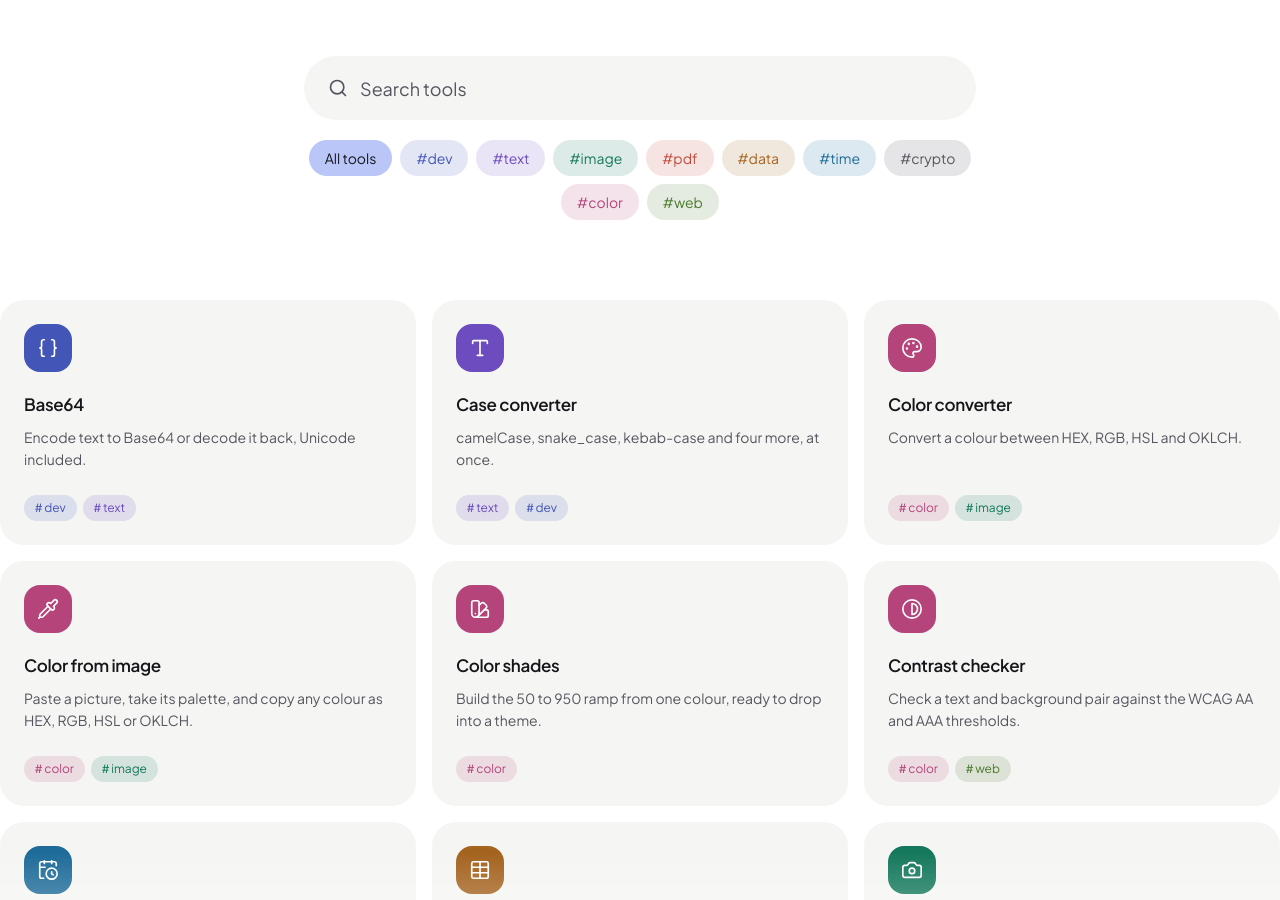
Test: <ToolExplorer /> › should leave the grid alone until the search is committed
Type "qr" into the dropdown labelled "Search tools" at (640, 88), box [304,56,976,120]
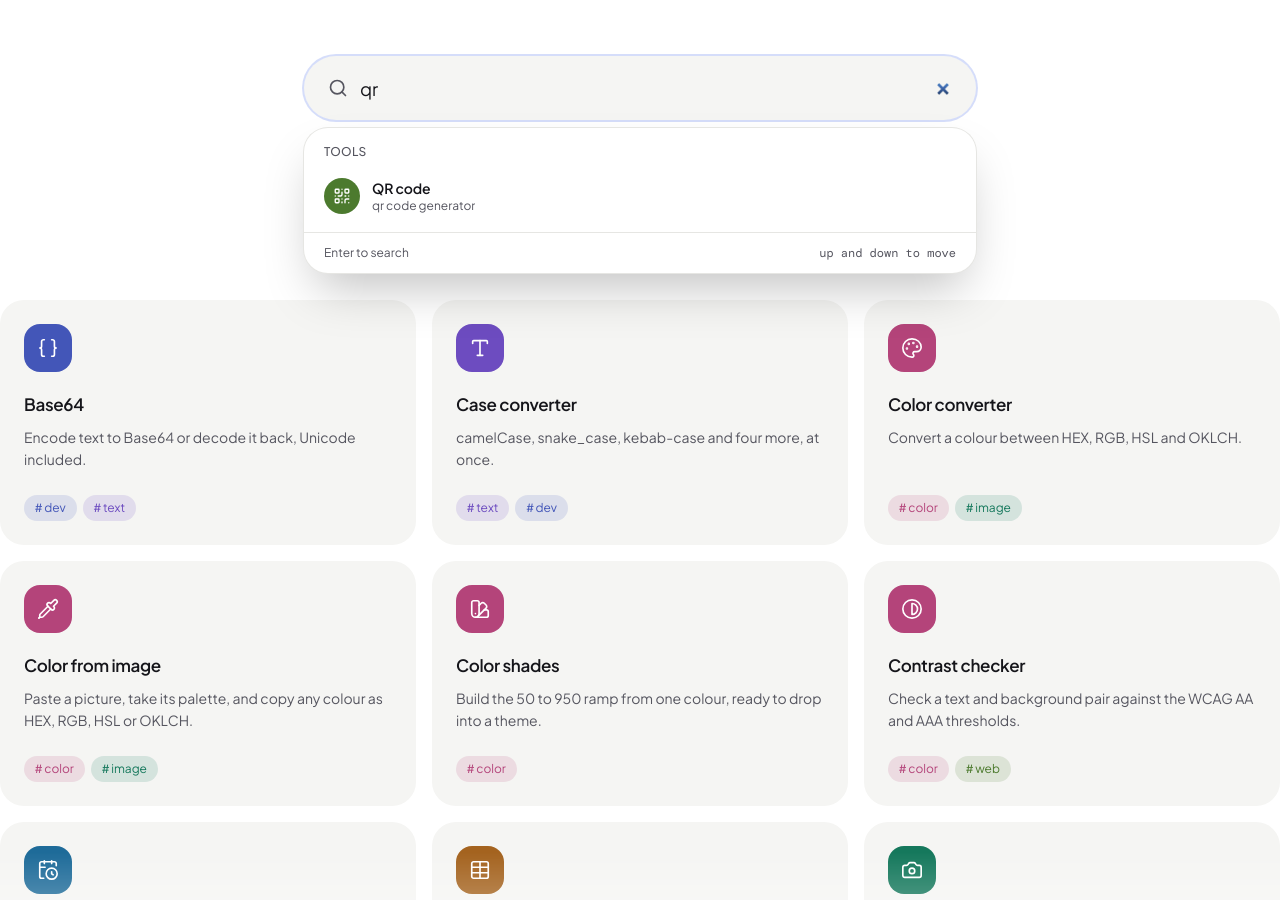
Check: the link "Case converter" is shown, box [432,300,848,545]
Press Enter
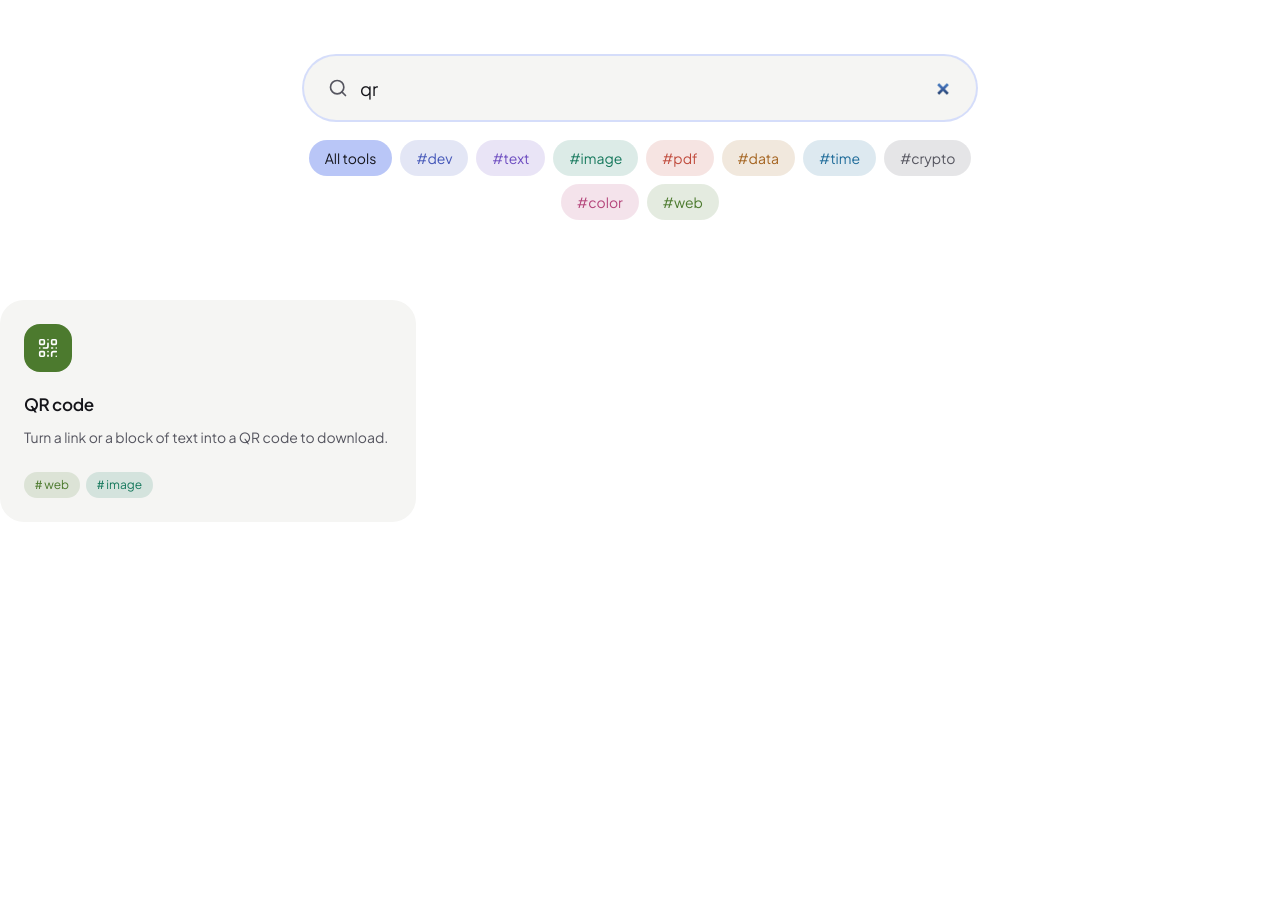
Check: the link "Case converter" is gone
Check: the link "QR code" is shown, box [0,300,416,522]
